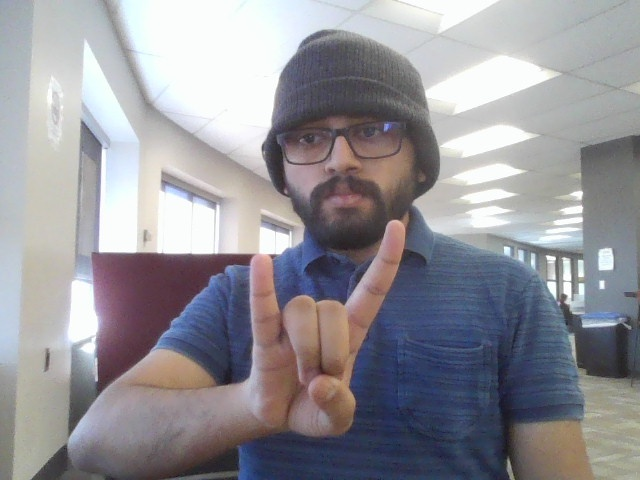help: (227, 219, 427, 461)
